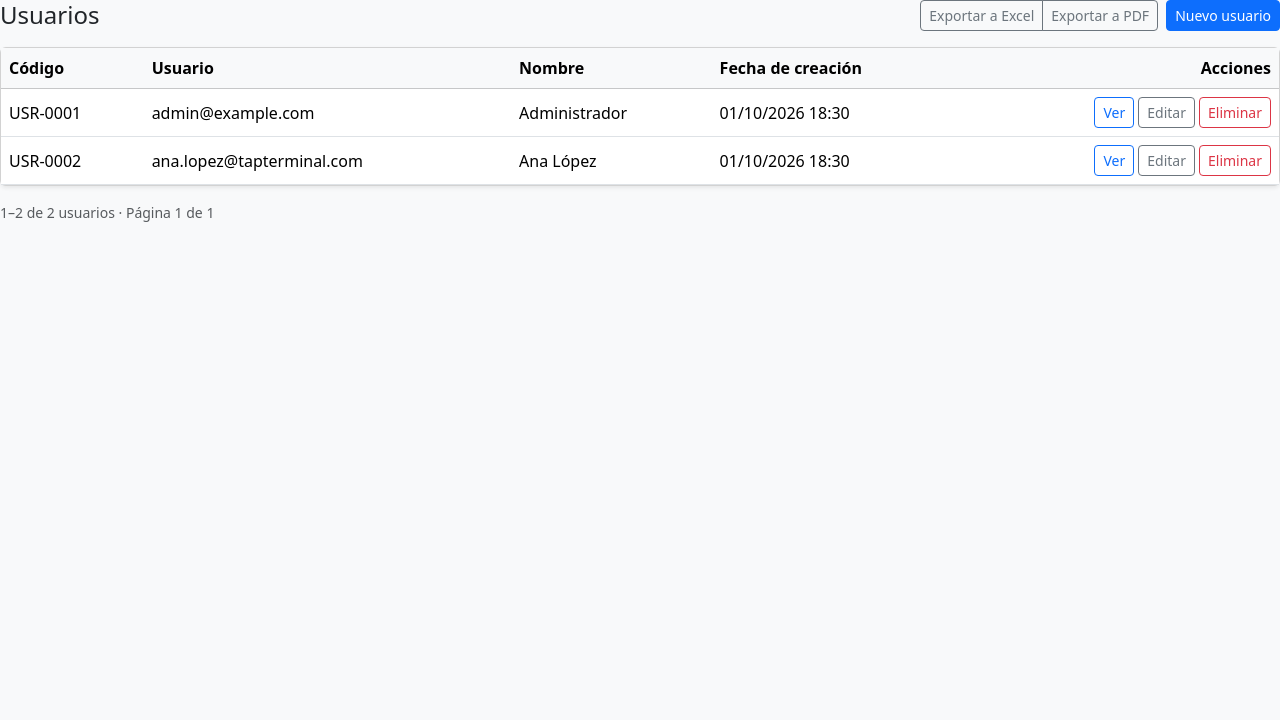
Test: UserListComponent › muestra el motivo si la API no permite eliminar (409)
Click the button with class "btn-outline-danger" in the row of "USR-0001": click(1235, 112) [1199, 97, 1271, 128]
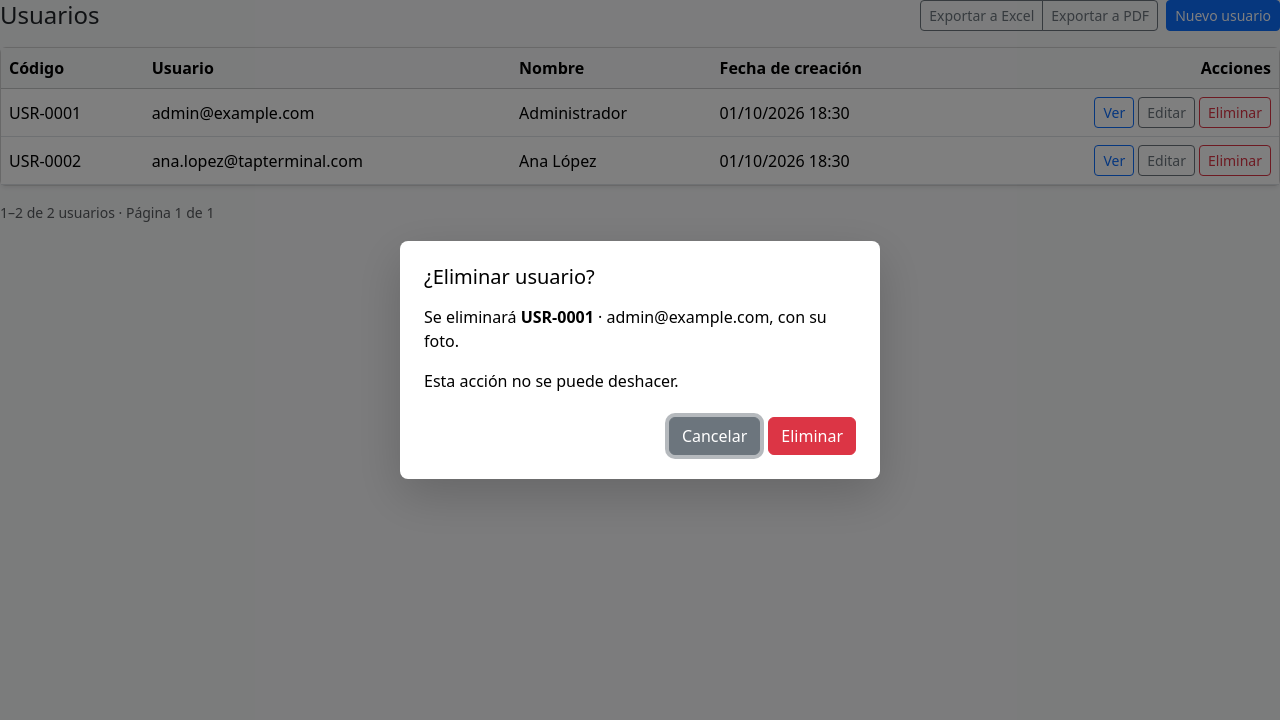
Click the button with class "btn-danger": click(812, 436) [768, 417, 856, 455]
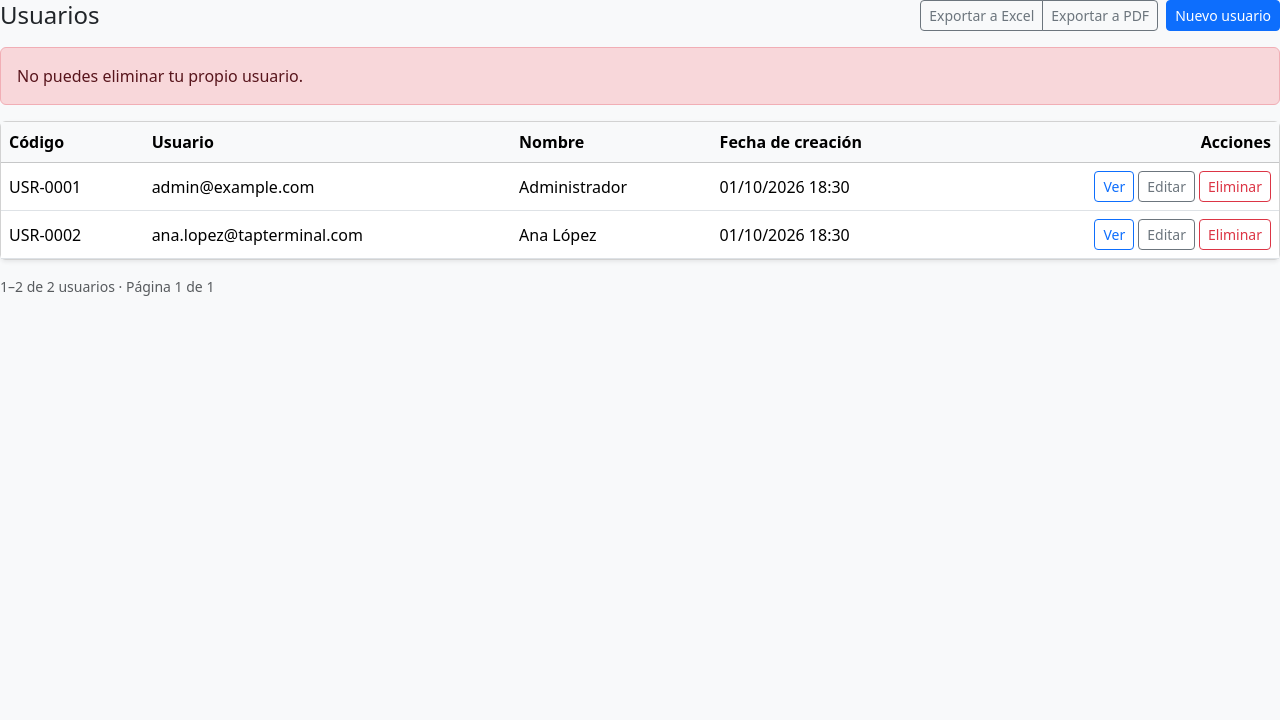
expect the message "No puedes eliminar tu propio usuario." is shown: met, box [0, 47, 1279, 105]
